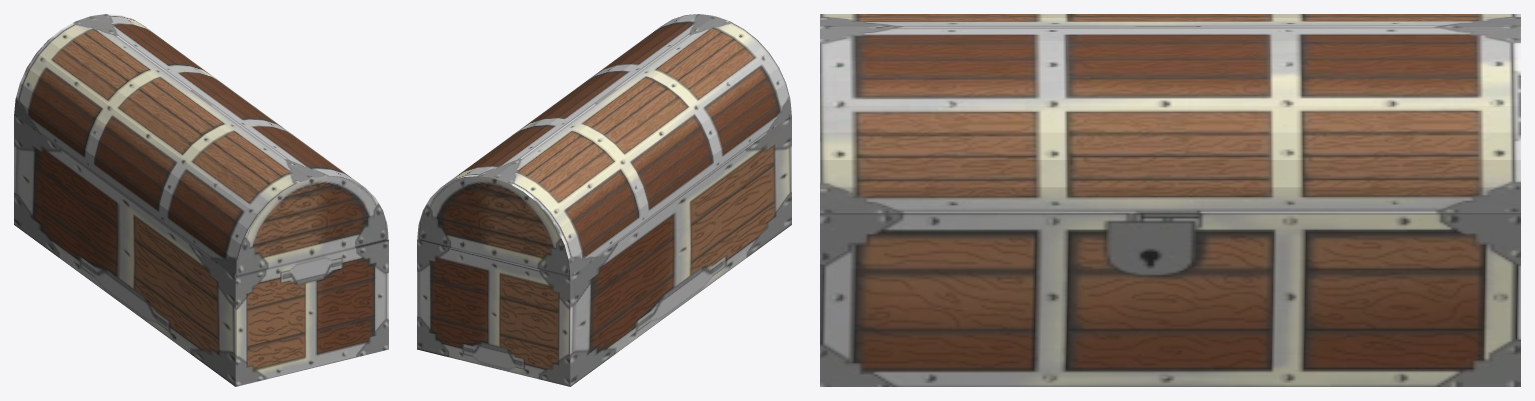
Rendered from cofre.glb.
3 views of the same model, side by side, from view 1: azimuth 30°, elevation 25°; view 2: azimuth 150°, elevation 25°; view 3: azimuth 270°, elevation 25° (orthographic). The views are drawn at different scales.
Parts seen in each view (by area): view 1: Cylinder.001, Cube.001; view 2: Cylinder.001, Cube.001; view 3: Cylinder.001, Cube.001.
Part boxes in pixels (x1,y1,x2,y2): Cylinder.001: (14, 14, 388, 276); Cube.001: (14, 115, 388, 386); Cylinder.001: (417, 14, 791, 276); Cube.001: (417, 115, 791, 386); Cylinder.001: (820, 14, 1520, 213); Cube.001: (820, 213, 1520, 386).
Size of the model in its own units: 2 by 2.37 by 5.
Materials: 2 (2 with a texture image).
